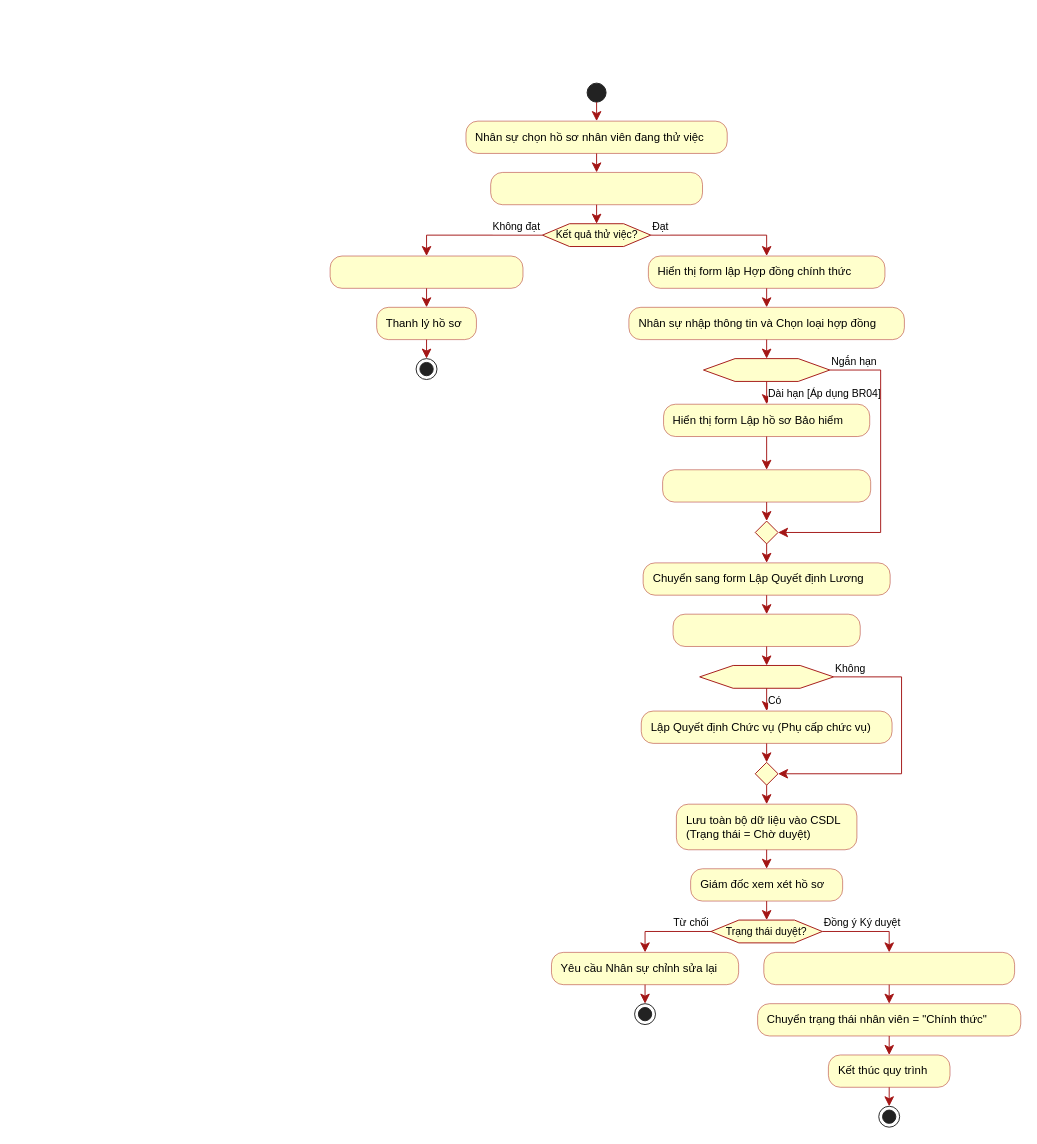
The diagram is 1037 pixels wide and 1144 high, and some of its shapes have lost their labels. The box of each missing label's shape, as (x1, y1, x2, y2) in pixels:
Cập nhật trạng thái "Chấm dứt": (329, 255, 523, 288)
Cập nhật trạng thái chứng từ = "Đã duyệt": (763, 952, 1014, 984)
Ghi nhận kết quả đánh giá thử việc: (490, 172, 702, 205)
Loại hợp đồng là gì?: (703, 358, 830, 381)
Nhân viên có chức vụ?: (699, 665, 834, 688)
Nhập Lương cơ bản và Phụ cấp: (672, 614, 860, 646)
Nhập mức trích đóng BHYT, BHXH: (662, 469, 870, 502)
